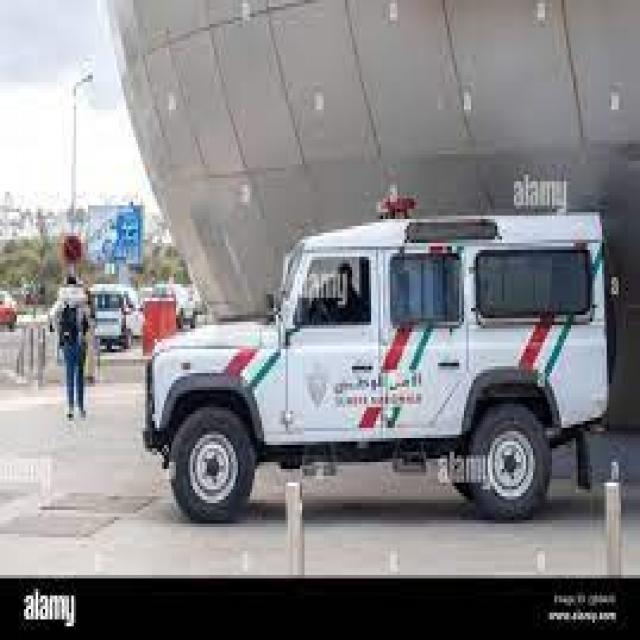police: (150, 196, 613, 510)
